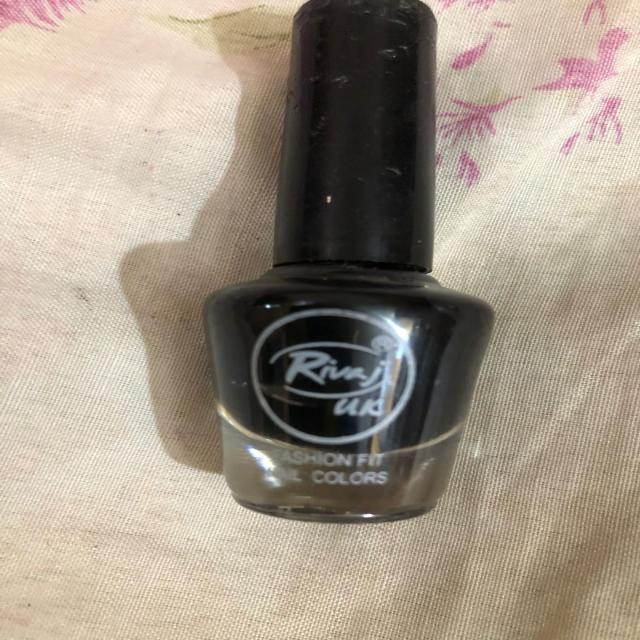nail polish: (193, 0, 521, 550)
